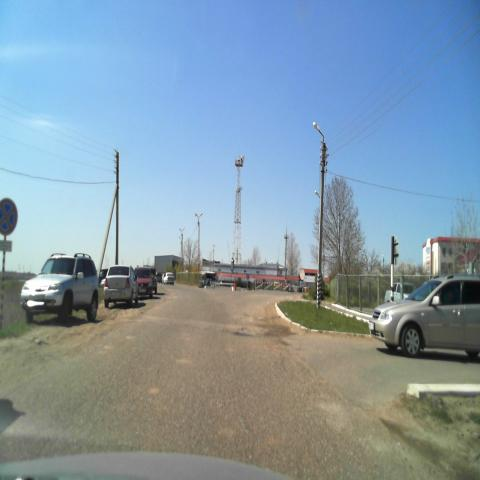3_27: (0, 199, 18, 233)
